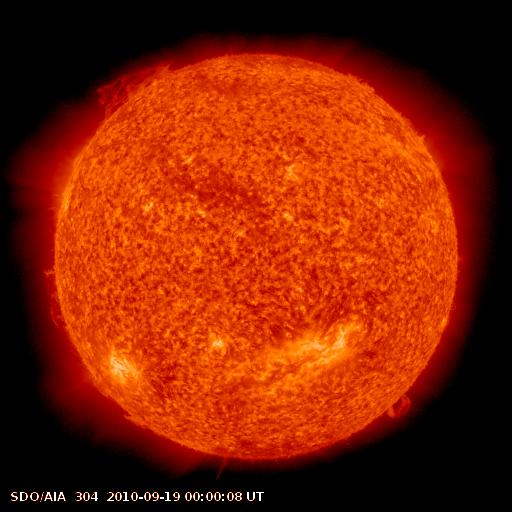prominence: (92, 44, 190, 125), (31, 259, 77, 336), (106, 396, 153, 438), (375, 384, 416, 429)
